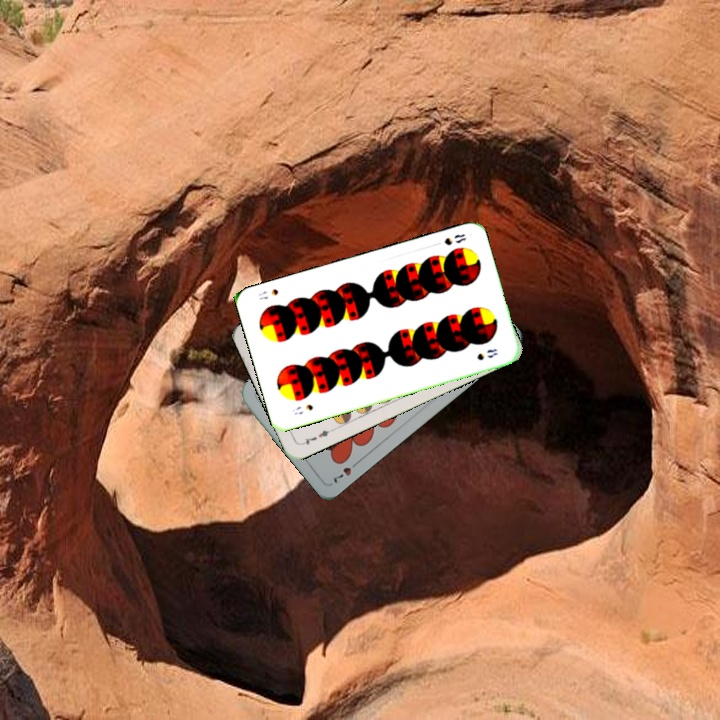E7: (297, 425, 336, 448)
H7: (327, 456, 362, 486)
S8: (440, 230, 469, 248), (288, 400, 316, 417)
